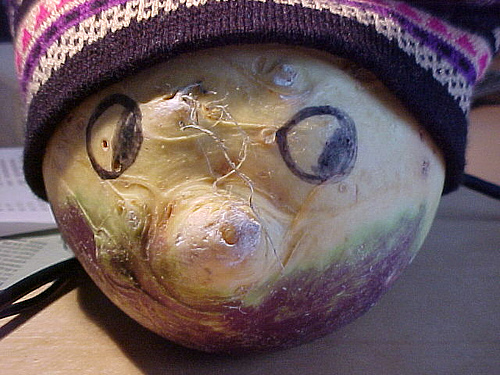turnip: (39, 31, 447, 362)
